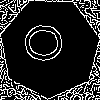O: (24, 22, 72, 64)
